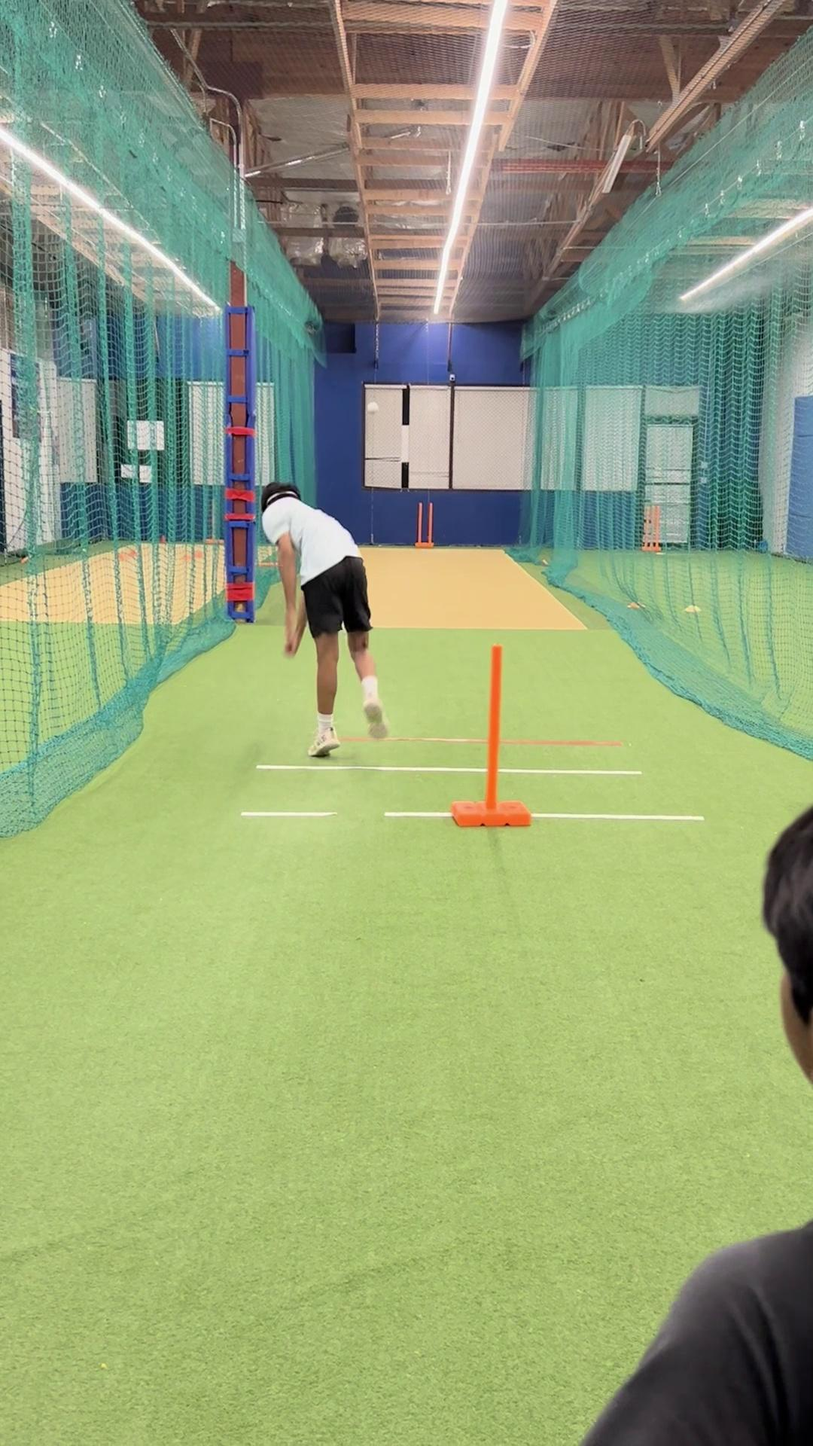ball: (361, 398, 383, 420)
